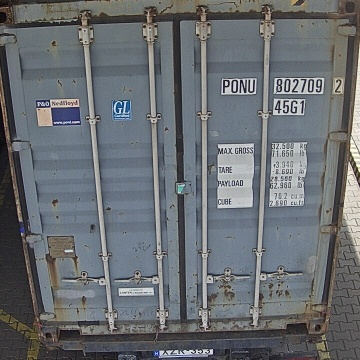serial_id: (222, 78, 343, 94)
